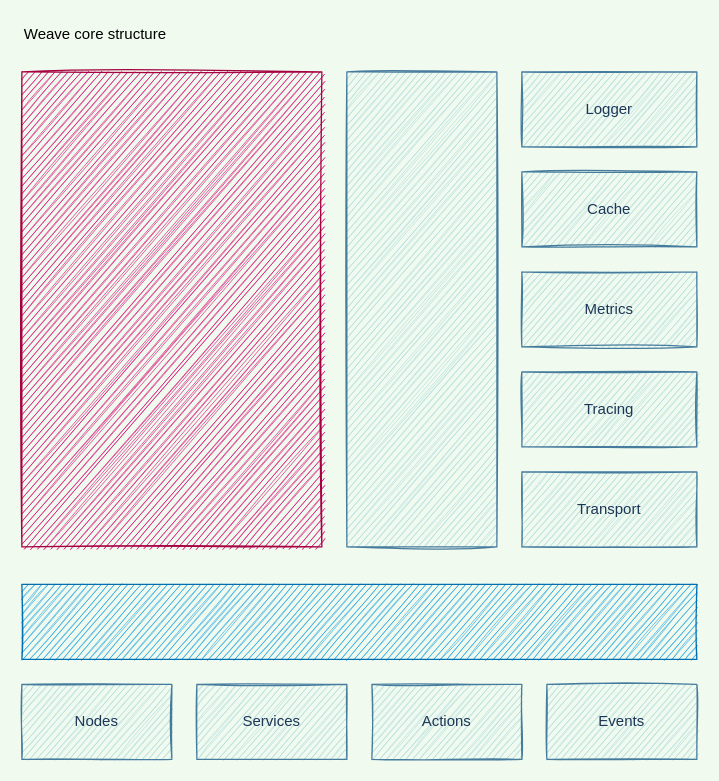
The diagram is 719 pixels wide and 781 high, and some of its shapes have lost their labels. Each missing label, with the centre of its shape:
"Broker" goes at point (171, 309).
"Middlewares" goes at point (421, 309).
"Registry" goes at point (359, 621).
